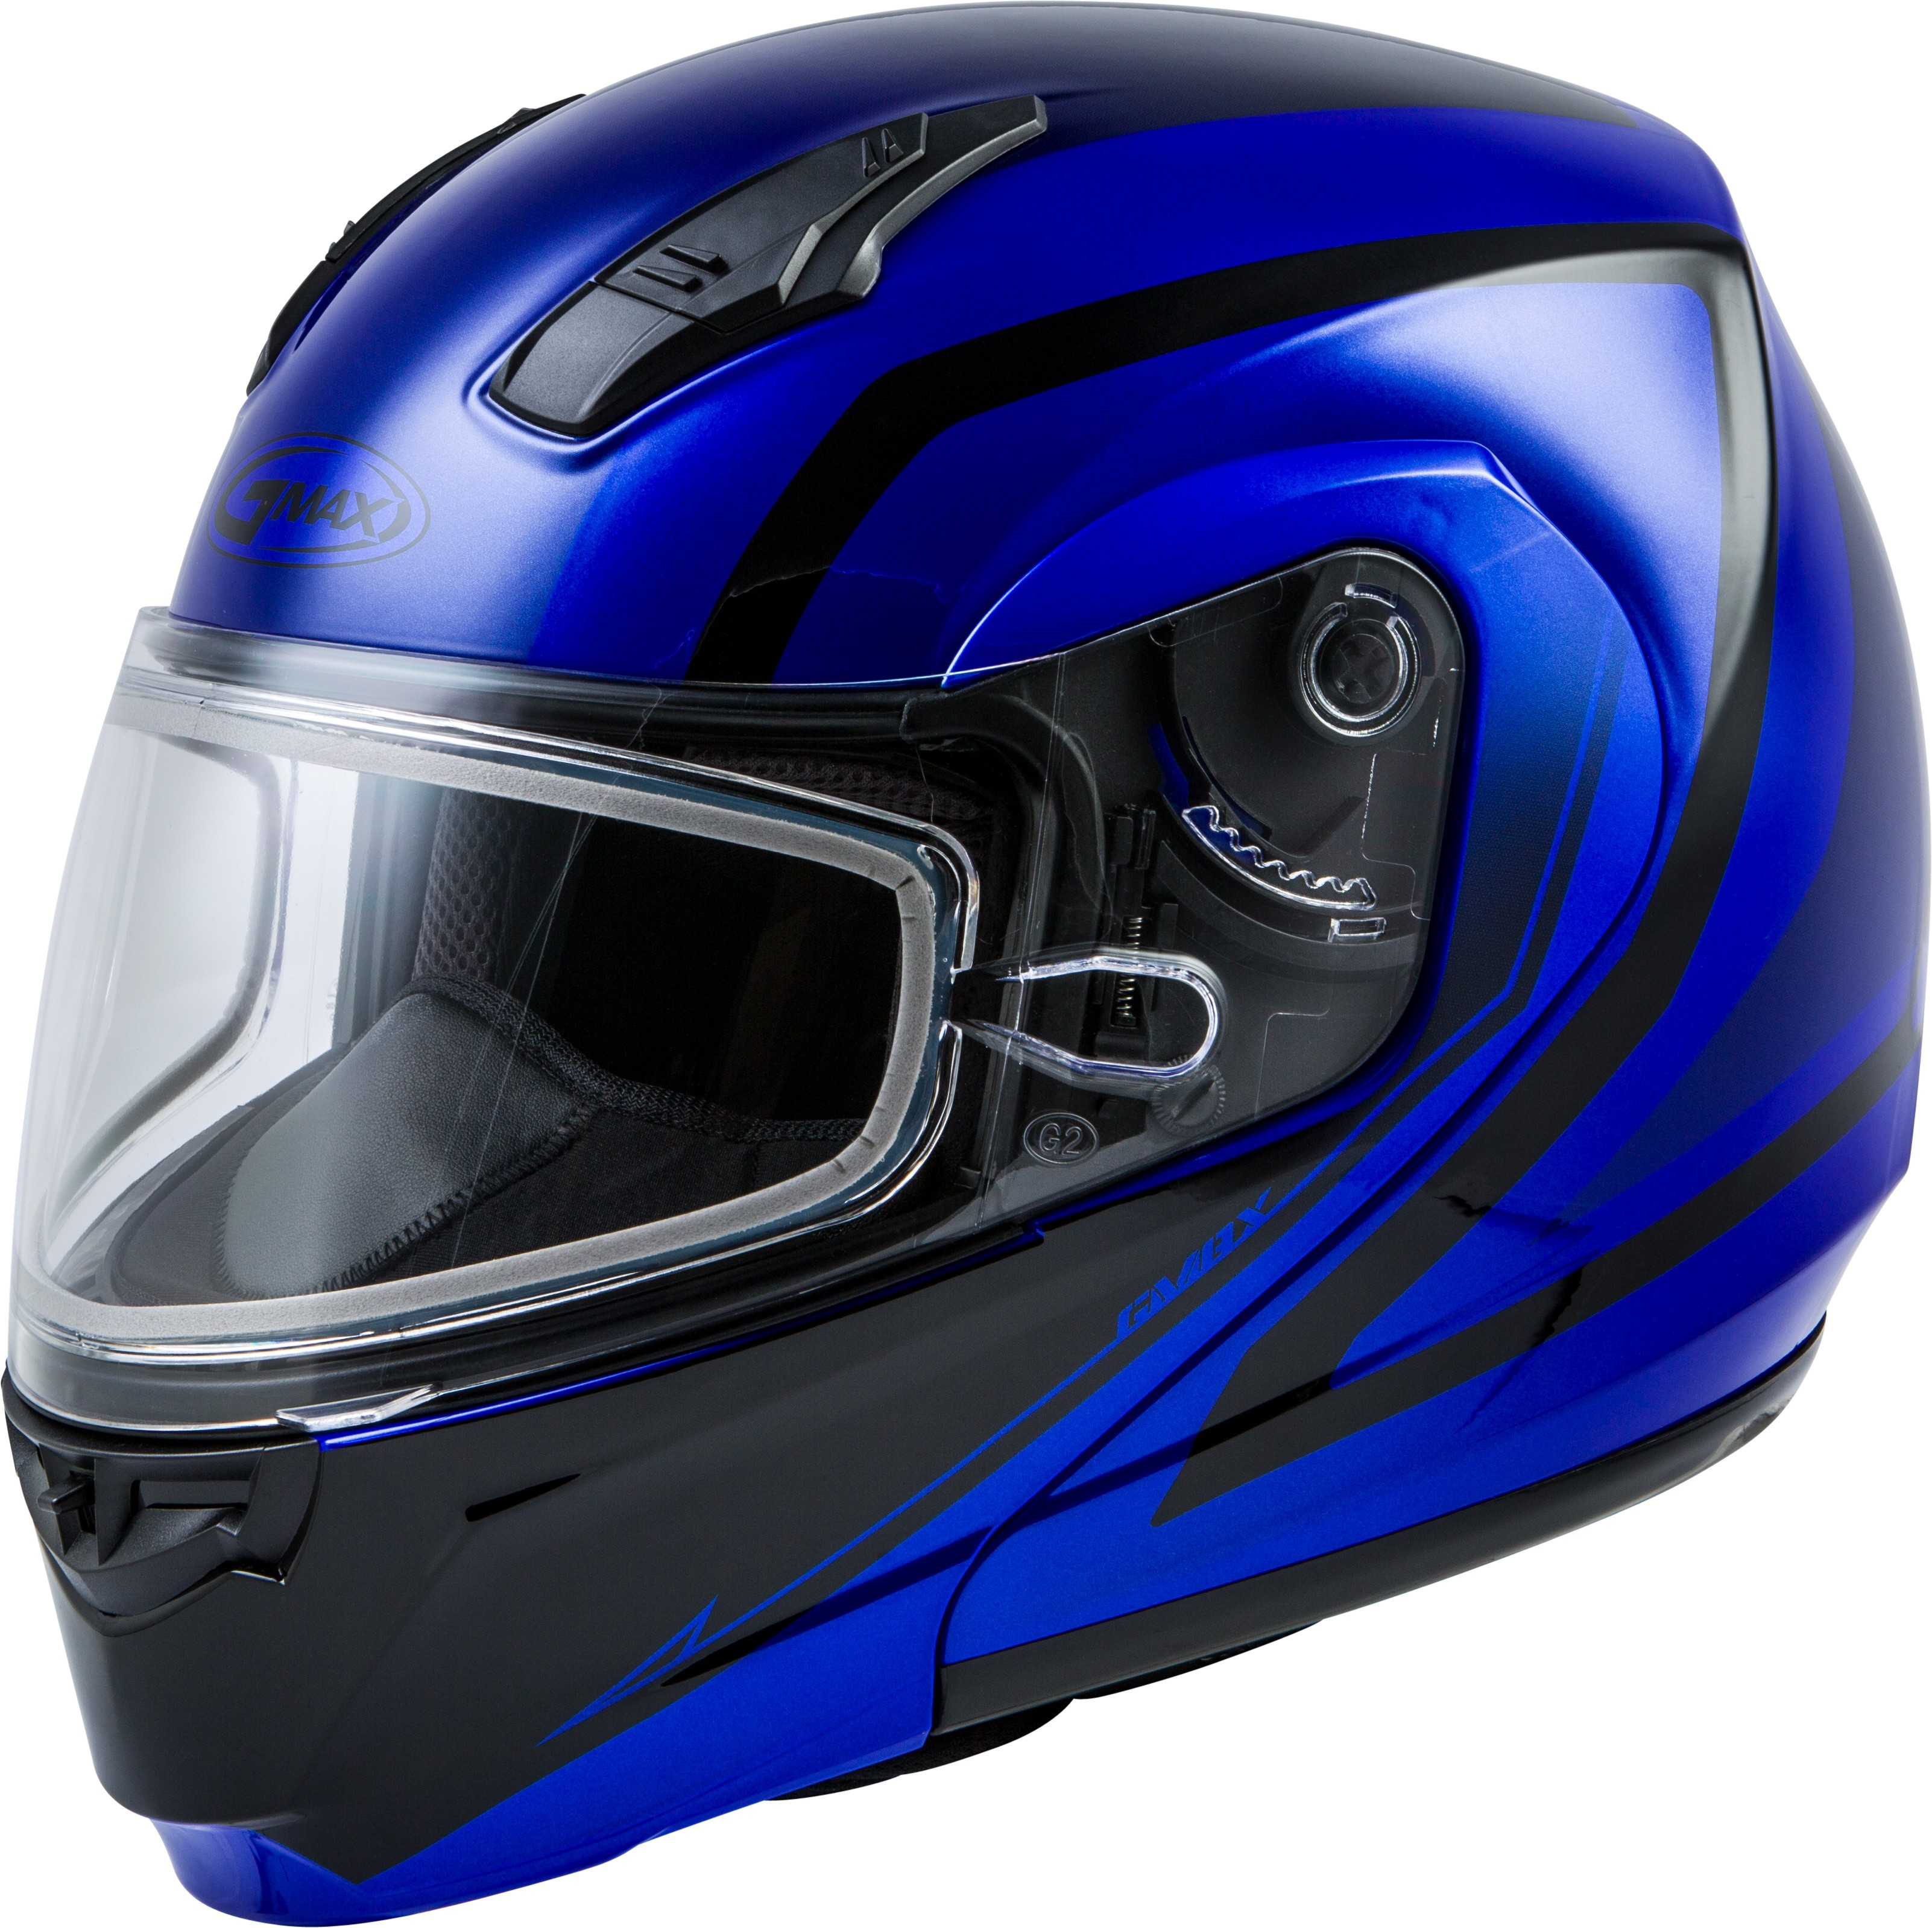helmet: (11, 11, 1932, 1917)
